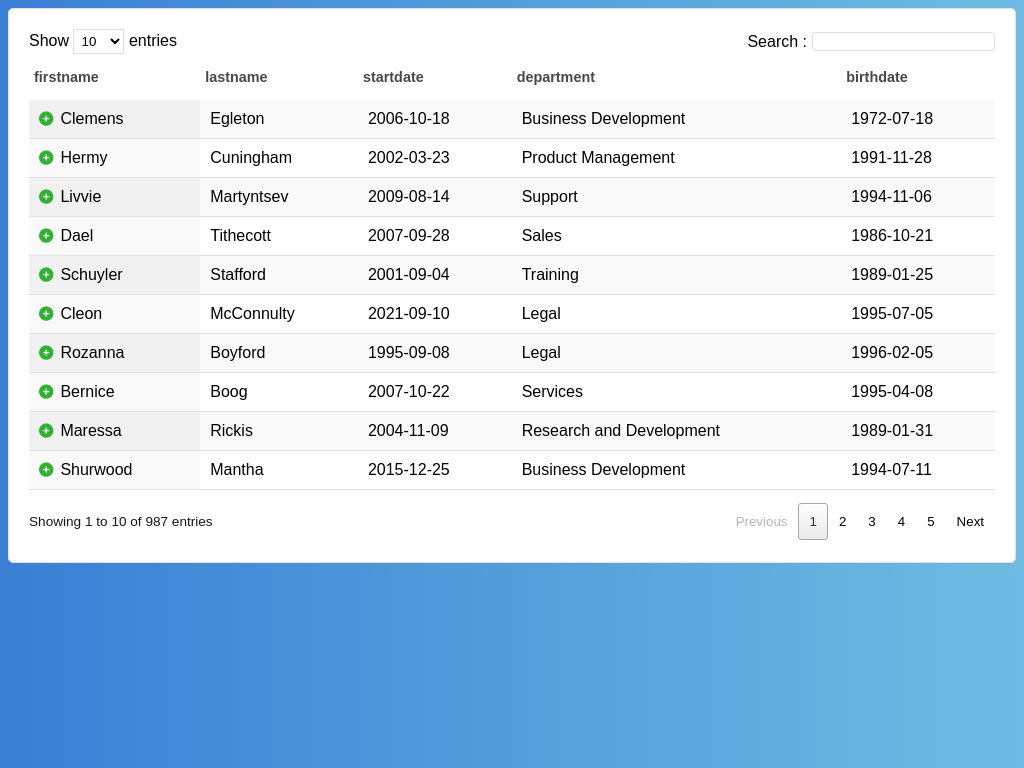
Scenario: When datatable is filled with json data › Then, click on a row should display detail
Click the row with test id "datatable-row" that starts with "Clemens": [512, 119] box left=29, top=100, right=995, bottom=138
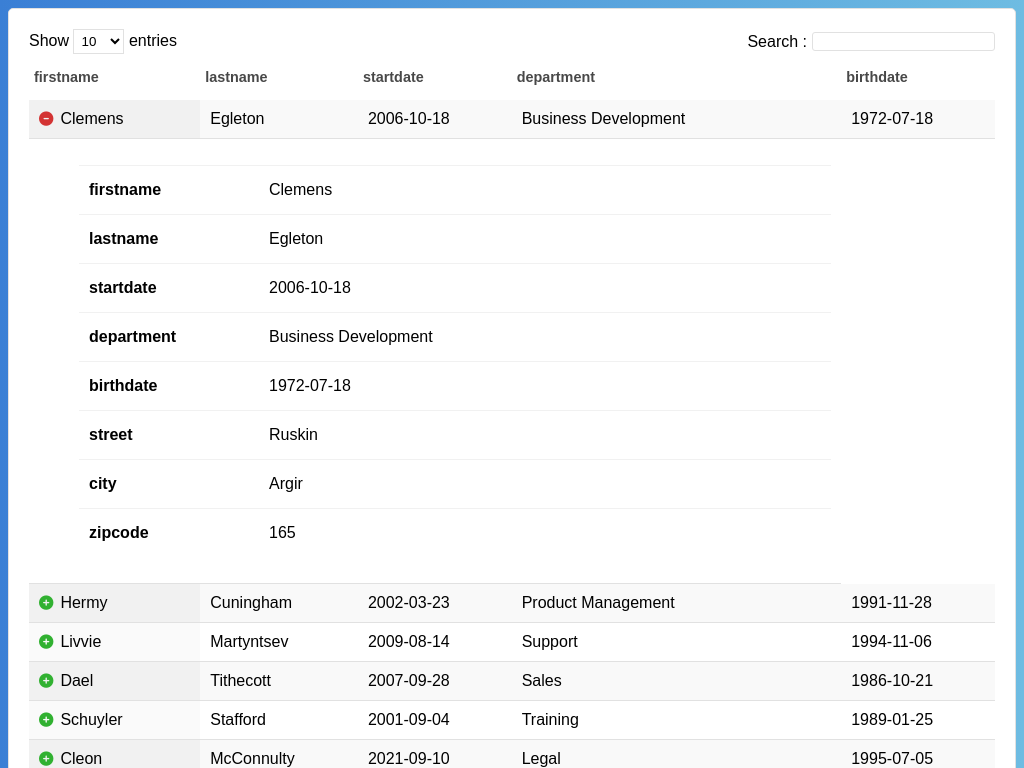
Now the row with test id "datatable-dropdown" is shown, box left=29, top=138, right=995, bottom=584
